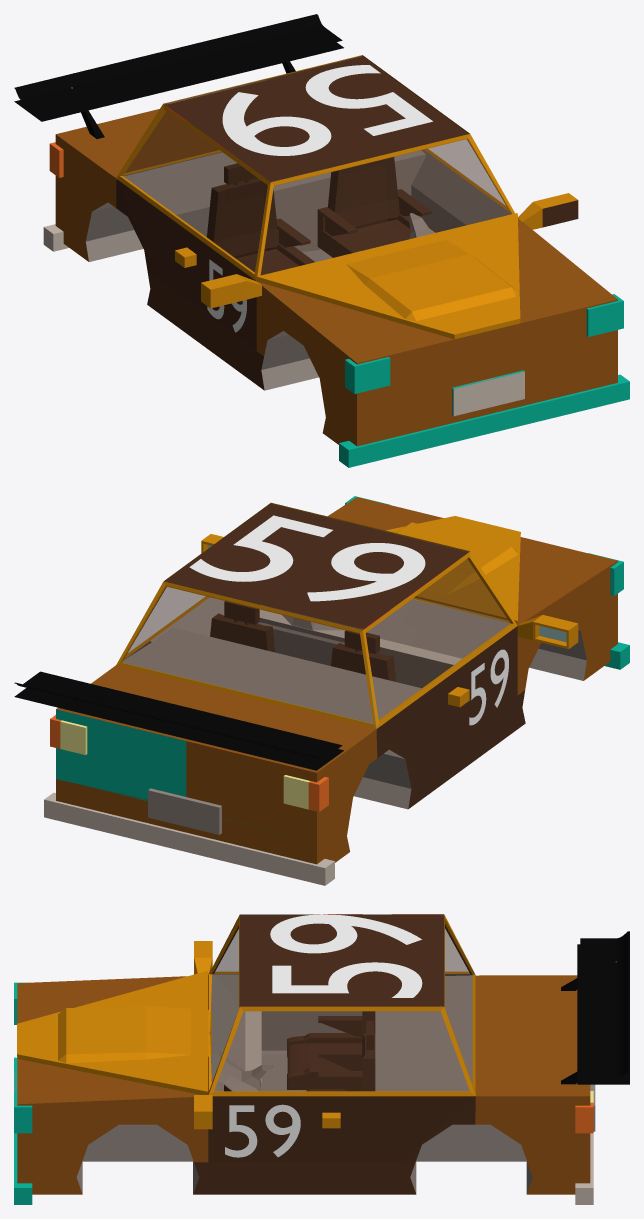
File: CarNb1.fbx
3 views of the same model, one above another, from view 1: azimuth 30°, elevation 25°; view 2: azimuth 150°, elevation 25°; view 3: azimuth 270°, elevation 25° (orthographic). The views are drawn at different scales.
Visible parts, largest first — view 1: 7 Body; view 2: 7 Body; view 3: 7 Body.
Boxes of the visible parts, x1=… form: 7 Body: x1=14, y1=14, x2=629, y2=467; 7 Body: x1=14, y1=496, x2=629, y2=885; 7 Body: x1=14, y1=914, x2=629, y2=1204.
Bounding box in the file's own units: 184 × 92.33 × 281.
